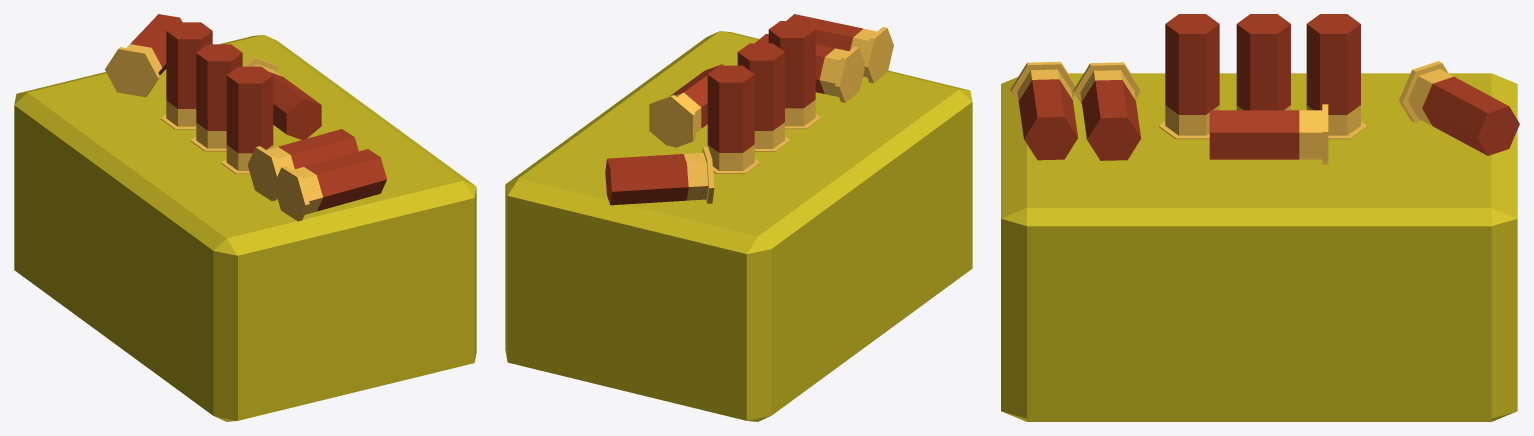
File: Shotgun Ammo.glb
3 views of the same model, side by side, from view 1: azimuth 30°, elevation 25°; view 2: azimuth 150°, elevation 25°; view 3: azimuth 270°, elevation 25° (orthographic). The views are drawn at different scales.
Parts seen in each view (by area): view 1: ShotgunAmmo_Box_Cube; view 2: ShotgunAmmo_Box_Cube; view 3: ShotgunAmmo_Box_Cube.
Boxes of the visible parts, box(x1,y1,x2,y2) form: ShotgunAmmo_Box_Cube: box(14, 14, 476, 421); ShotgunAmmo_Box_Cube: box(505, 14, 972, 421); ShotgunAmmo_Box_Cube: box(1001, 14, 1519, 421).
Size of the model in its own units: 1.56 by 1.54 by 2.28.
